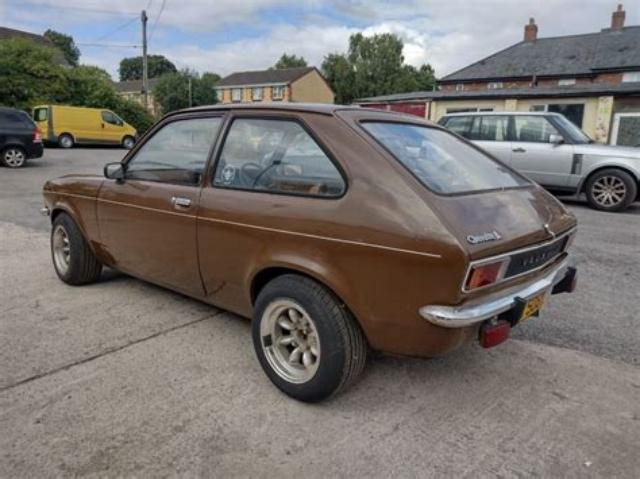chevette-1983: (41, 103, 577, 401)
